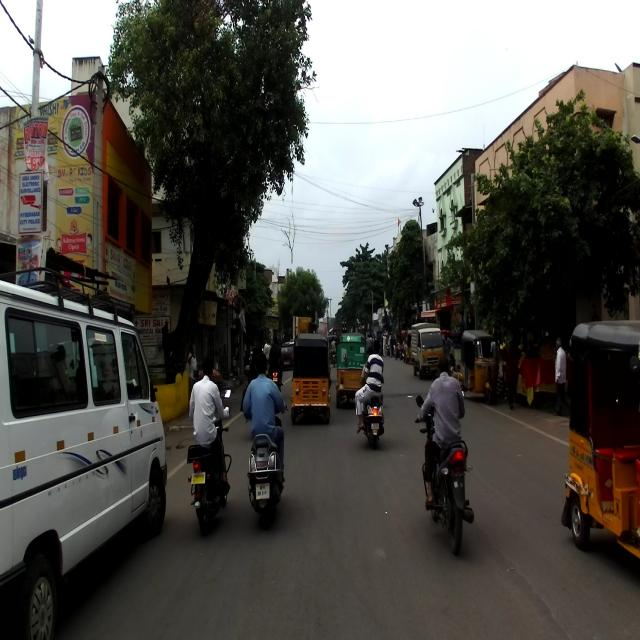autorickshaw: (561, 320, 640, 564)
mini-bus: (0, 264, 169, 639)
motorcycle: (415, 385, 473, 557), (187, 385, 231, 534)
scooter: (244, 404, 288, 522), (358, 377, 385, 446)
